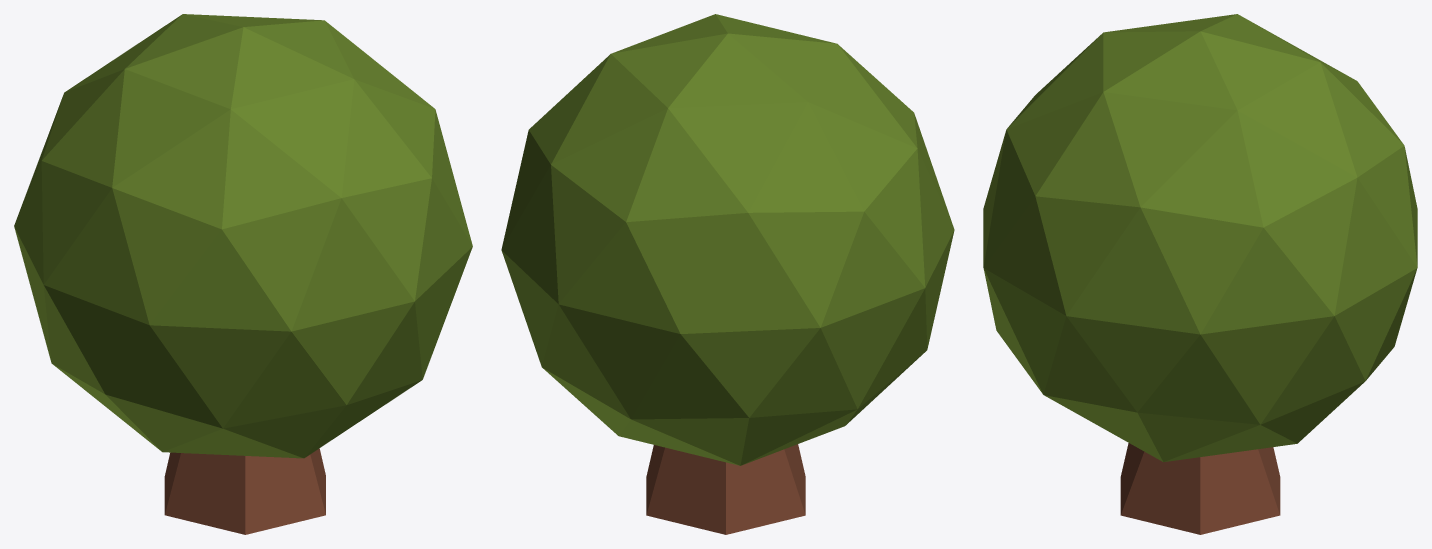
The model's file is bush_2_autumn_vc.fbx.
3 views of the same model, side by side, from view 1: azimuth 30°, elevation 25°; view 2: azimuth 150°, elevation 25°; view 3: azimuth 270°, elevation 25° (orthographic).
Visible parts, largest first — view 1: bush_2_autumn_vc; view 2: bush_2_autumn_vc; view 3: bush_2_autumn_vc.
Part boxes in pixels (box(x1,y1,x2,y2)): bush_2_autumn_vc: box(14, 14, 472, 534); bush_2_autumn_vc: box(501, 14, 954, 534); bush_2_autumn_vc: box(983, 14, 1417, 534).
Size of the model in its own units: 0.915 by 1.03 by 0.8702.
